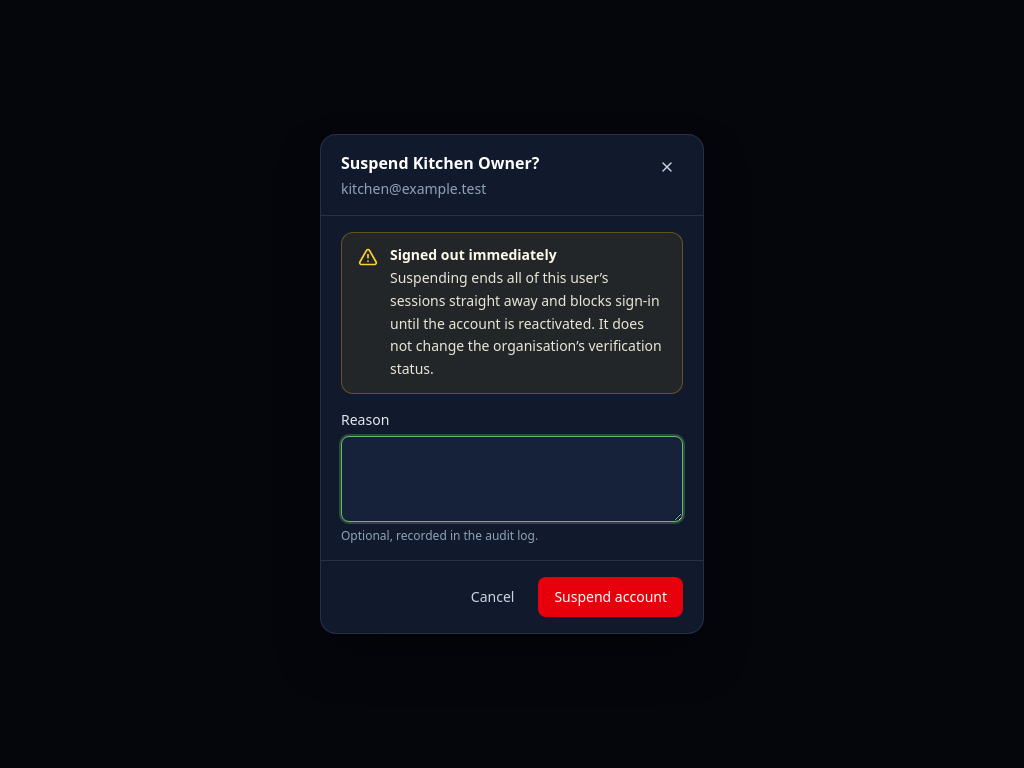
Scenario: user status changes › explains SELF_STATUS_CHANGE from the server and blocks retrying
Click the button "Suspend account" at (611, 597), box [538,577,683,617]
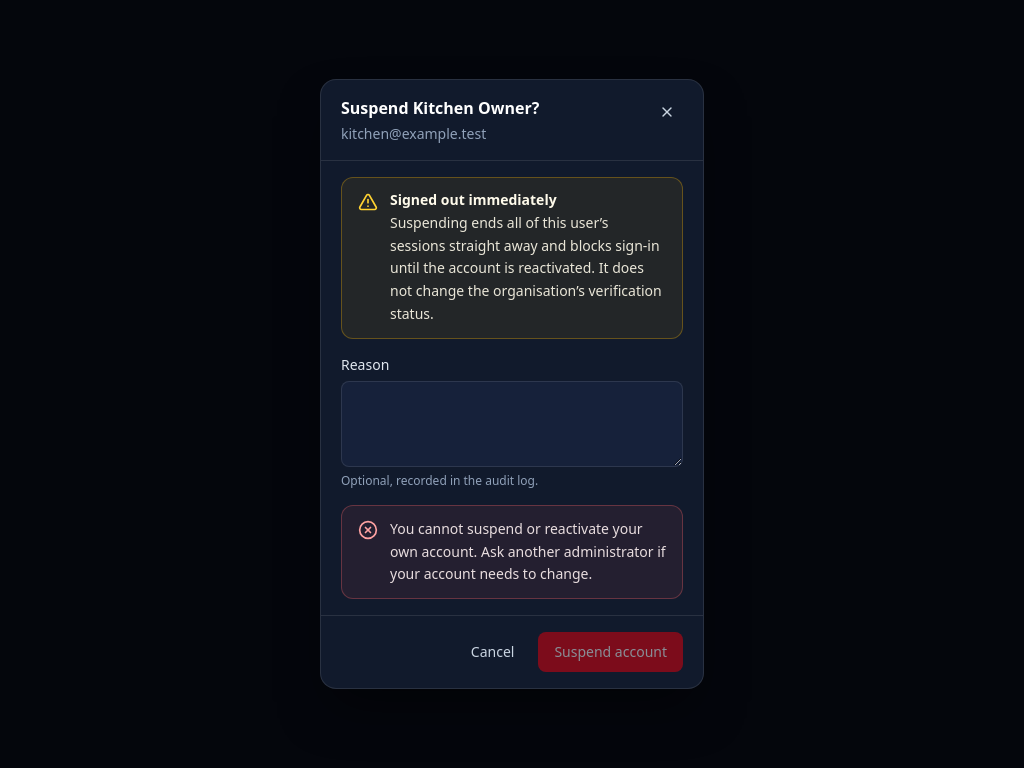
Check: the text "You cannot suspend or reactivate your own account" is shown, box [390,519,666,583]
Check: the button "Suspend account" is disabled, box [538,632,683,672]
